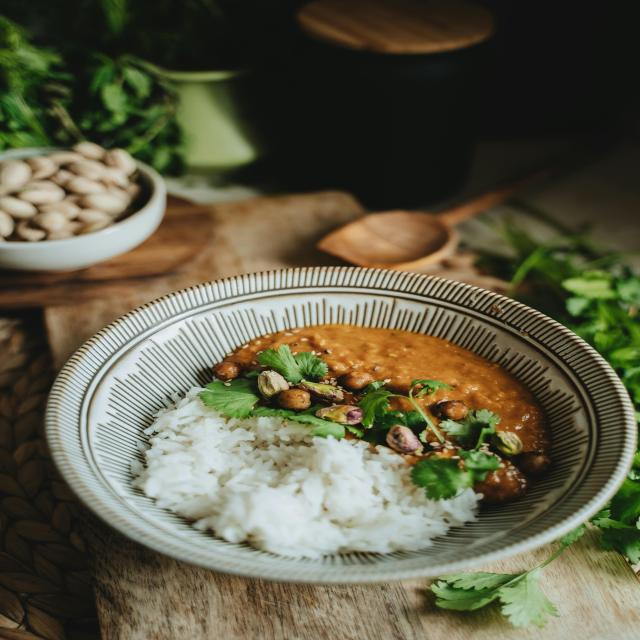Dal: (298, 330, 492, 414)
White Rice: (148, 412, 418, 549)
